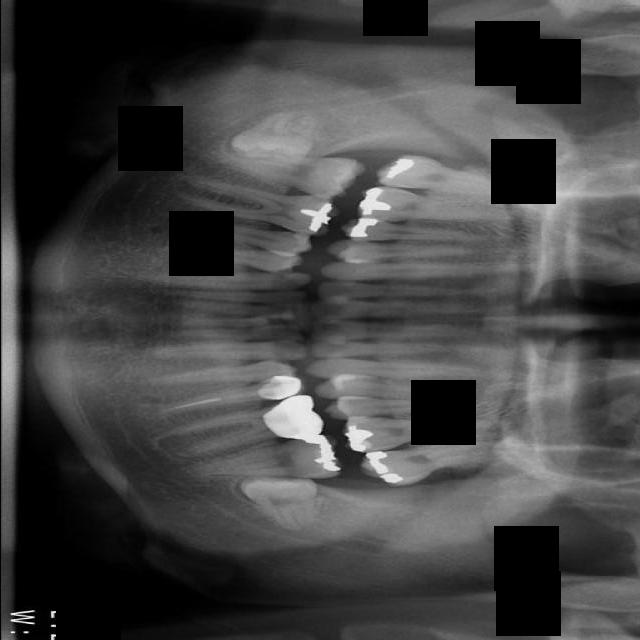52: (277, 429, 347, 489), (263, 390, 327, 443), (354, 180, 418, 232), (356, 446, 428, 492), (343, 415, 406, 453), (378, 154, 443, 189), (289, 195, 341, 236), (340, 215, 394, 245), (259, 376, 302, 400)
73: (155, 382, 265, 417), (50, 580, 59, 584)
BioHorizons Implant: (356, 430, 517, 495)
Biomet 3i Implant: (237, 472, 321, 529)
Blue Sky Bio Implant: (175, 433, 345, 486)
Caries: (377, 153, 531, 200)
Implant: (215, 150, 364, 201)
Keystone Dental Implant: (225, 107, 317, 164)
